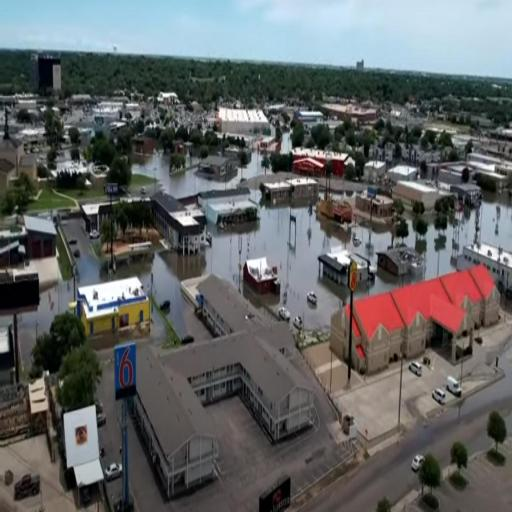flood: (139, 206, 392, 335), (405, 199, 512, 277), (135, 150, 263, 197), (17, 278, 73, 380), (75, 254, 100, 286), (370, 274, 402, 292), (281, 132, 292, 152)
house: (330, 260, 501, 367), (123, 344, 220, 496), (241, 331, 318, 442), (76, 277, 152, 331), (152, 190, 208, 254), (197, 273, 249, 331), (465, 239, 512, 297), (320, 242, 376, 290), (289, 144, 356, 184), (200, 188, 259, 232), (219, 103, 270, 139), (378, 244, 423, 280), (23, 214, 56, 262), (243, 256, 282, 296), (31, 48, 63, 96), (398, 178, 439, 212), (198, 153, 240, 184), (359, 187, 395, 221), (450, 178, 484, 212), (322, 192, 354, 224), (288, 176, 320, 205), (264, 180, 291, 209), (20, 151, 38, 180)
